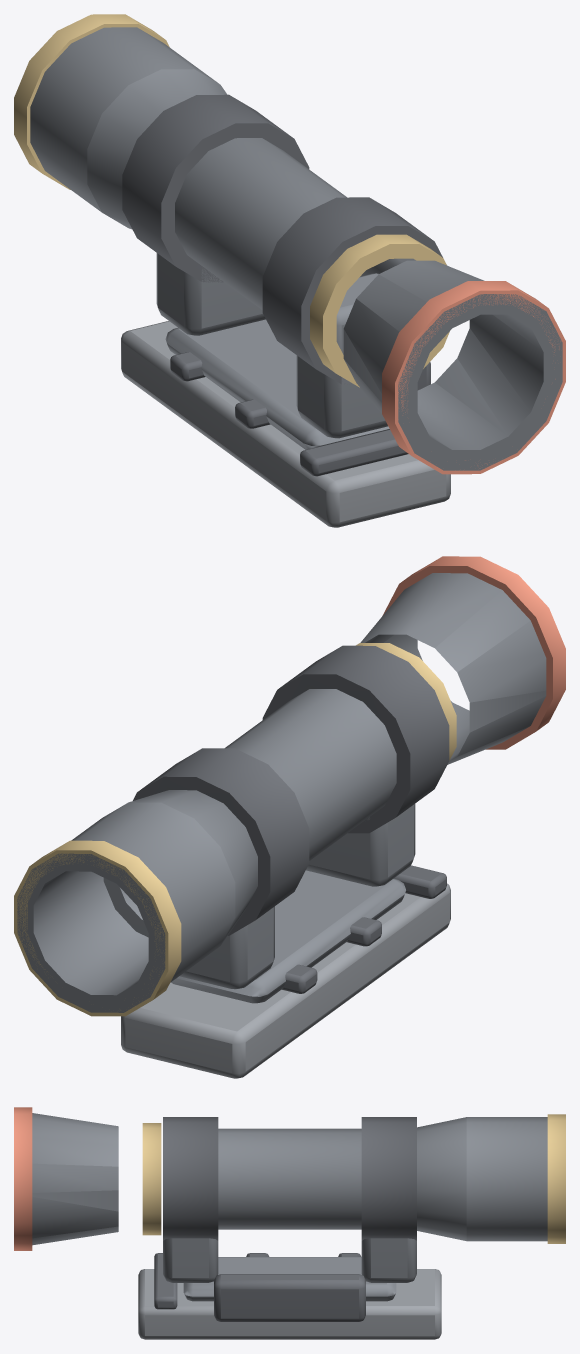
Rendered from Optic_Scope2.glb.
3 views of the same model, one above another, from view 1: azimuth 30°, elevation 25°; view 2: azimuth 150°, elevation 25°; view 3: azimuth 270°, elevation 25° (orthographic). The views are drawn at different scales.
Visible parts, largest first — view 1: Cube.004, Cube.001, Cube, Cylinder.005, Cylinder.003; view 2: Cube.004, Cube.001, Cube, Cylinder.005, Cylinder.003; view 3: Cube.004, Cube.001, Cube, Cylinder.005, Cylinder.003.
Boxes of the visible parts, <box> form: Cube.004: <box>30,27,562,470</box>; Cube.001: <box>122,94,442,476</box>; Cube: <box>121,321,450,527</box>; Cylinder.005: <box>14,14,449,387</box>; Cylinder.003: <box>382,281,565,474</box>; Cube.004: <box>17,573,546,1012</box>; Cube.001: <box>133,645,449,993</box>; Cube: <box>121,883,450,1078</box>; Cylinder.005: <box>14,643,456,1016</box>; Cylinder.003: <box>382,556,565,749</box>; Cube.004: <box>32,1113,547,1301</box>; Cube.001: <box>154,1117,416,1321</box>; Cube: <box>138,1269,441,1339</box>; Cylinder.005: <box>142,1114,565,1243</box>; Cylinder.003: <box>14,1107,32,1250</box>.
Bounding box in the file's own units: 0.0322 × 0.0496 × 0.12.
